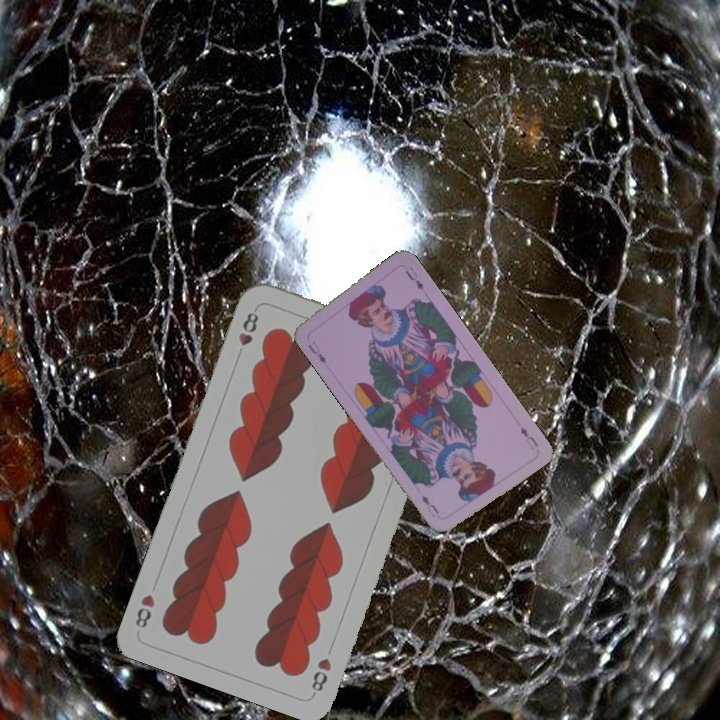EU: (304, 337, 329, 366), (516, 423, 541, 452)
H8: (307, 653, 334, 697), (234, 308, 262, 349)
